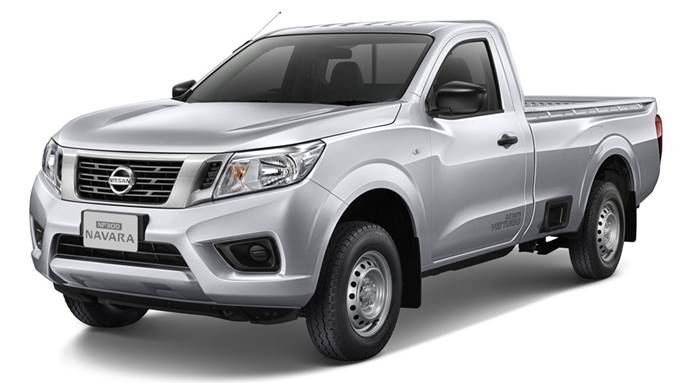pickup: (27, 18, 666, 366)
